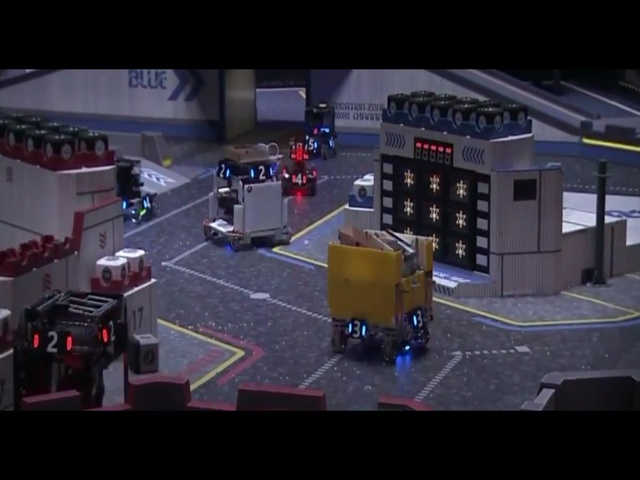plate: (31, 326, 73, 358), (100, 317, 119, 347), (346, 316, 369, 339), (250, 161, 275, 182), (409, 305, 426, 331), (290, 171, 309, 188), (215, 162, 232, 181), (303, 136, 319, 153), (141, 194, 152, 212)
